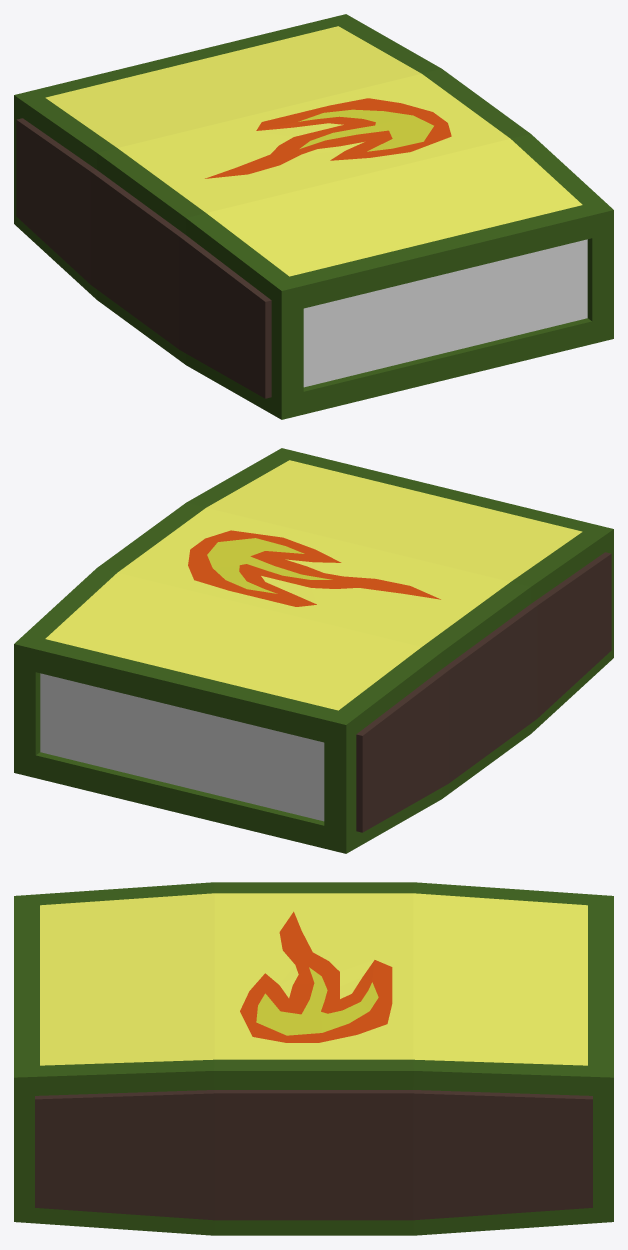
The model's file is mesh_matches.fbx.
3 renders of one model, top to bottom at view 1: azimuth 30°, elevation 25°; view 2: azimuth 150°, elevation 25°; view 3: azimuth 270°, elevation 25°, orthographic. The views are drawn at different scales.
Parts seen in each view (by area): view 1: mesh_matches; view 2: mesh_matches; view 3: mesh_matches.
Part boxes in pixels (x1,y1,x2,y2): mesh_matches: [14, 14, 613, 419]; mesh_matches: [14, 448, 613, 853]; mesh_matches: [14, 882, 613, 1235].
Bounding box in the file's own units: 0.1357 × 0.0533 × 0.1757.
